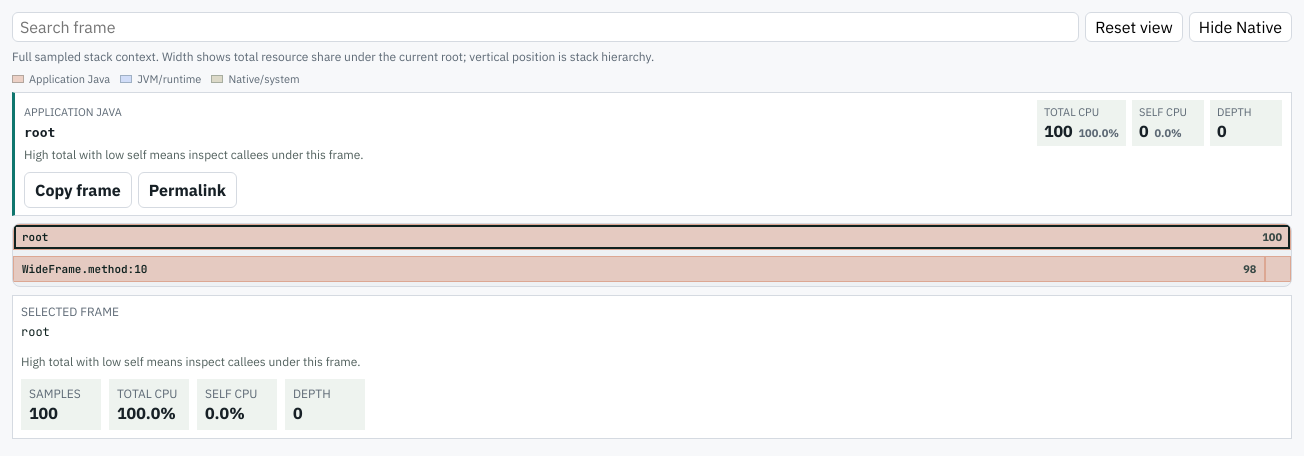
keeps tiny frames inspectable through title, focus, and the inspector
Focus the button named "TinyFrame.method:20". click: (1278, 269)
box: [1265,256,1291,282]
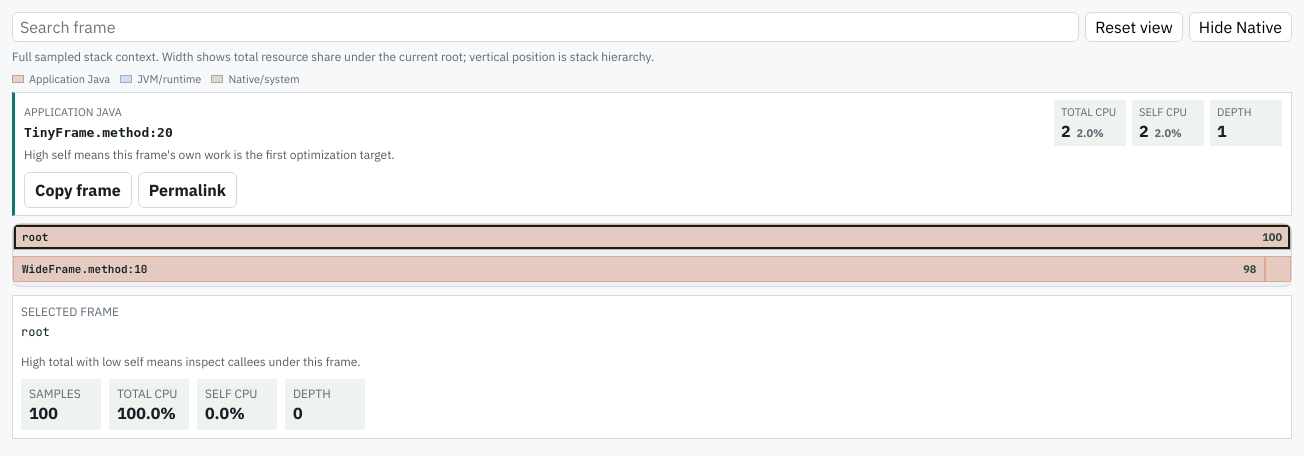
Check: the message shows "TinyFrame.method:20", box [24,125,173,140]
Check: the message shows "High self", box [24,147,395,162]
